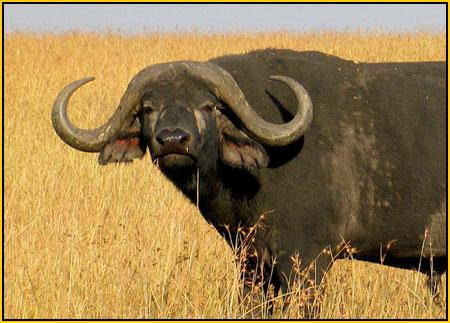Buffalo: (29, 32, 388, 268)
